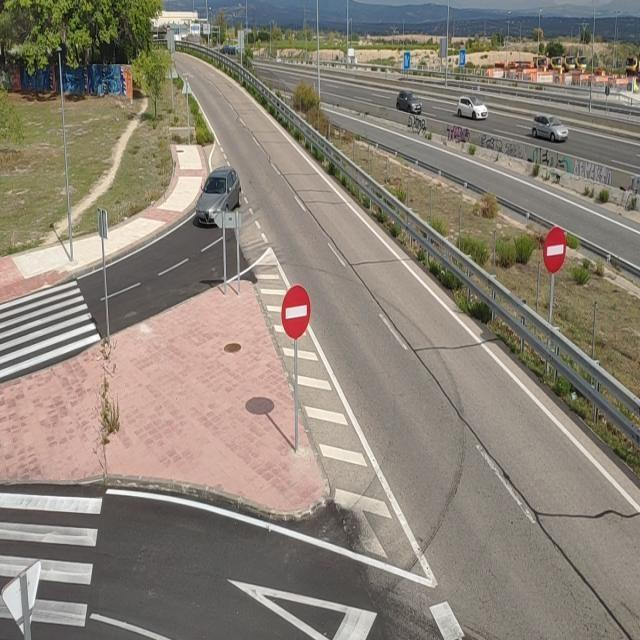Car: (195, 167, 241, 228), (530, 112, 569, 143), (456, 93, 488, 119), (396, 87, 423, 115)
